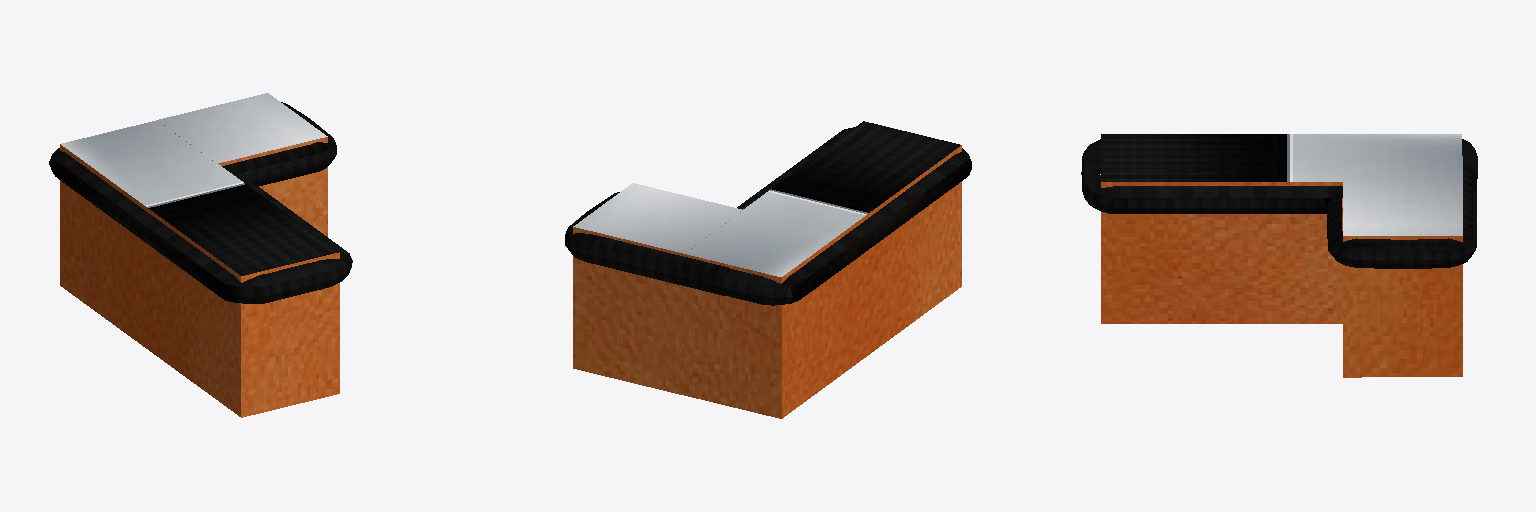
3 renders of one model, left to right at view 1: azimuth 30°, elevation 25°; view 2: azimuth 150°, elevation 25°; view 3: azimuth 270°, elevation 25°, orthographic.
Parts seen in each view (by area): view 1: Scanner1; view 2: Scanner1; view 3: Scanner1.
Part boxes in pixels (x1,y1,x2,y2): Scanner1: (49, 93, 352, 417); Scanner1: (565, 121, 971, 418); Scanner1: (1081, 134, 1477, 377).
Size of the model in its own units: 6.41 by 3.62 by 9.17.
Materials: 1 (1 with a texture image).